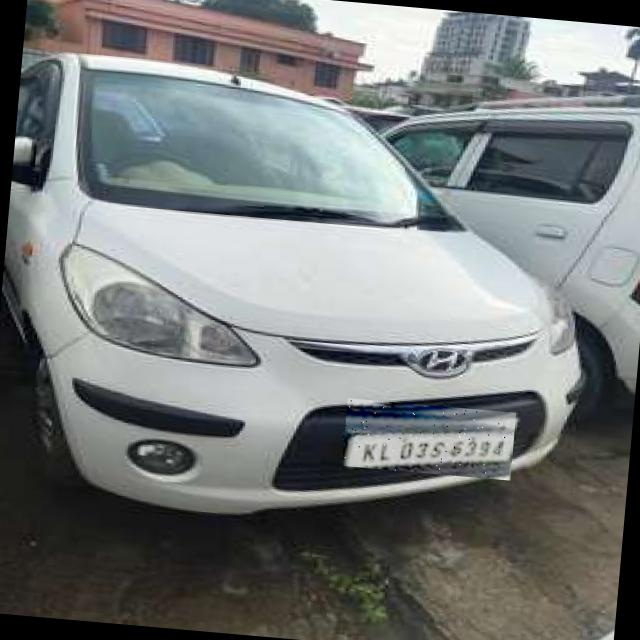Plate: (343, 399, 517, 481)
